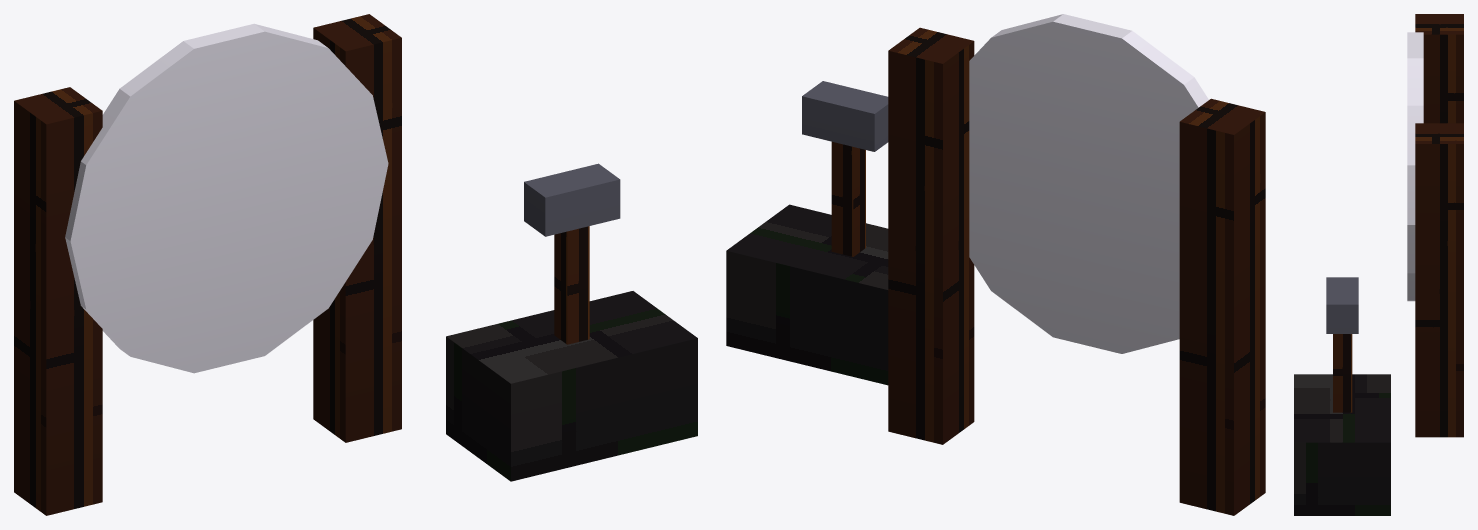
Rendered from rune_forge.glb.
The picture shows the model from 3 angles, left to right: view 1: azimuth 30°, elevation 25°; view 2: azimuth 150°, elevation 25°; view 3: azimuth 270°, elevation 25°; orthographic projection. The views are drawn at different scales.
Visible parts, largest first — view 1: rune_forge; view 2: rune_forge; view 3: rune_forge.
Boxes of the visible parts, x1,y1,x2,y2 form: rune_forge: [14, 14, 697, 515]; rune_forge: [726, 14, 1265, 515]; rune_forge: [1294, 14, 1463, 515].
Bounding box in the file's own units: 3.05 × 2.23 × 1.05.
Materials: 4 (2 with a texture image).
